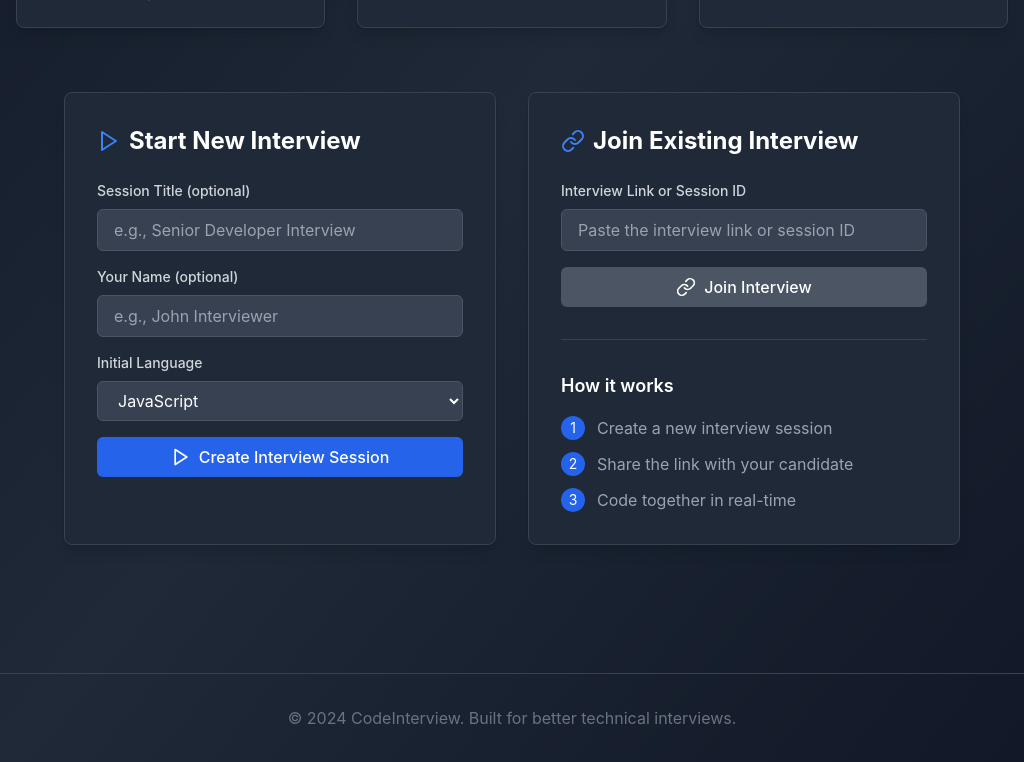
Test: Home Page › should display error message on API failure
(page scrolled)
Click the button "Create Interview Session" at (280, 457), box [97,437,463,477]
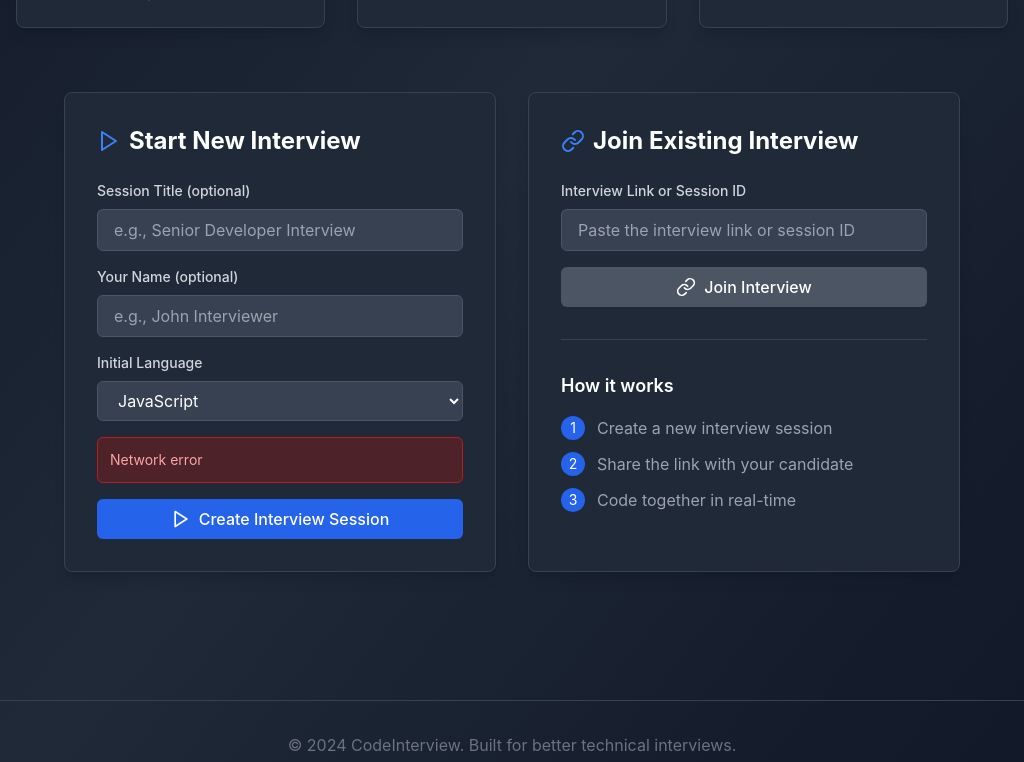
Expected: the text "Network error" is shown, [97,437,463,483]
